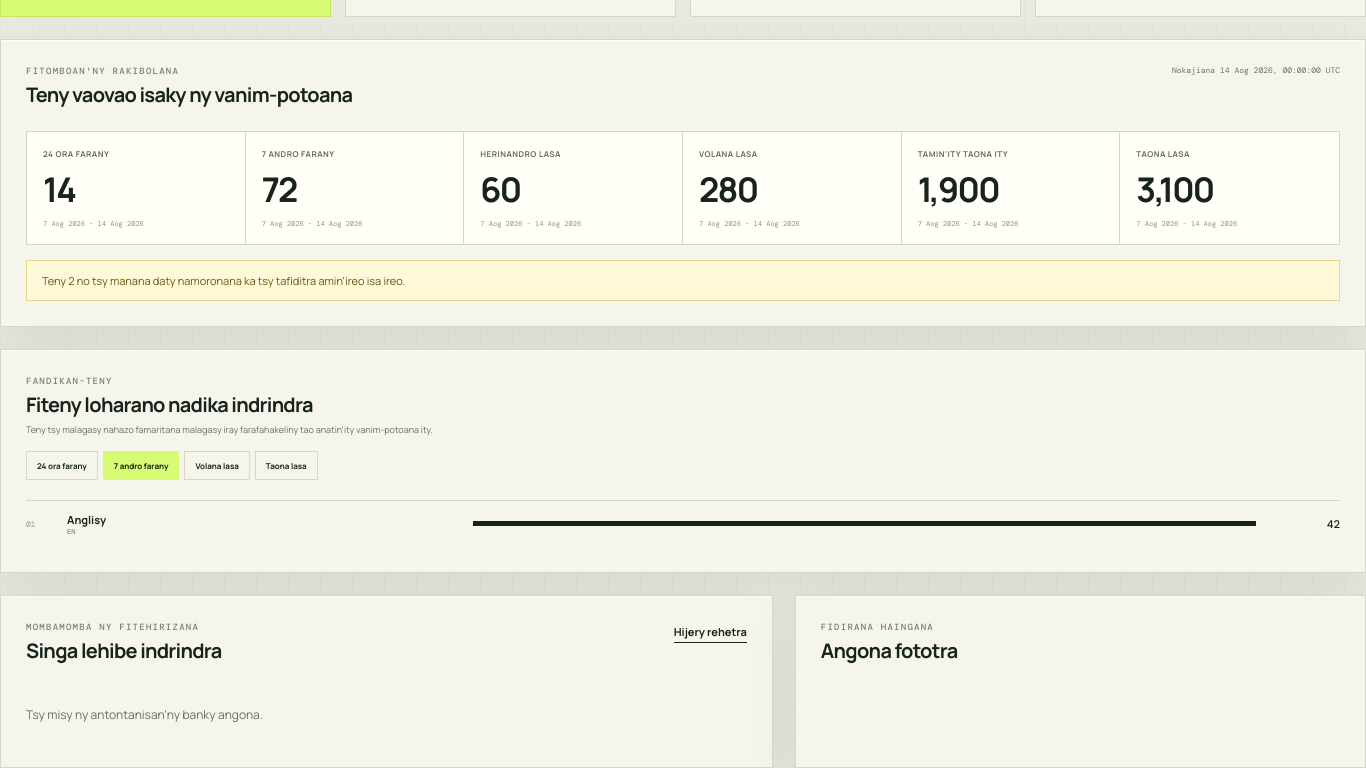
Test: Atlas dashboard statistics › renders period counts and switches translated-language rankings
(page scrolled)
expect the text "1,900" is shown: met, box [918, 166, 999, 212]
expect the text "Anglisy" is shown: met, box [67, 512, 106, 527]
Click the button "24 ora farany".
click(62, 465)  # box [26, 451, 98, 480]
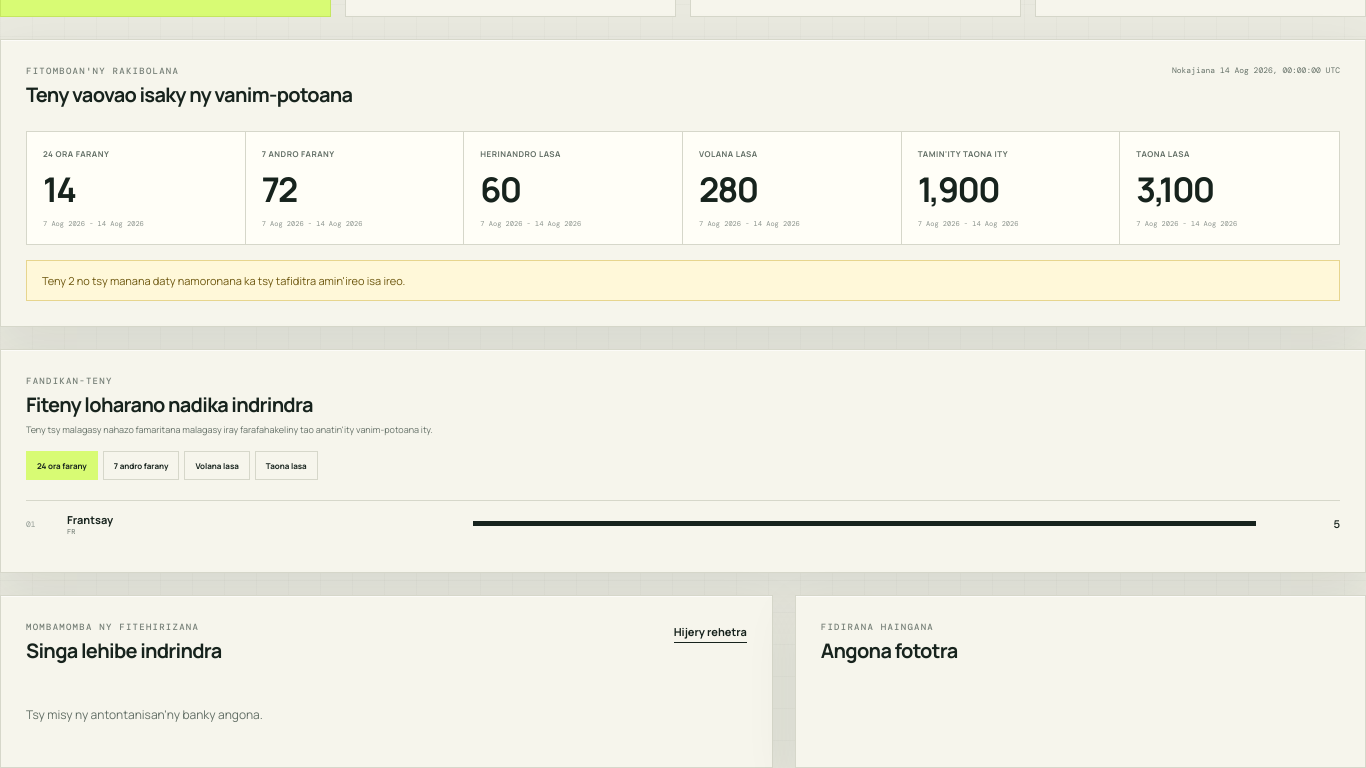
expect the text "Frantsay" is shown: met, box [67, 512, 113, 527]
expect the text "Anglisy" is gone: met
